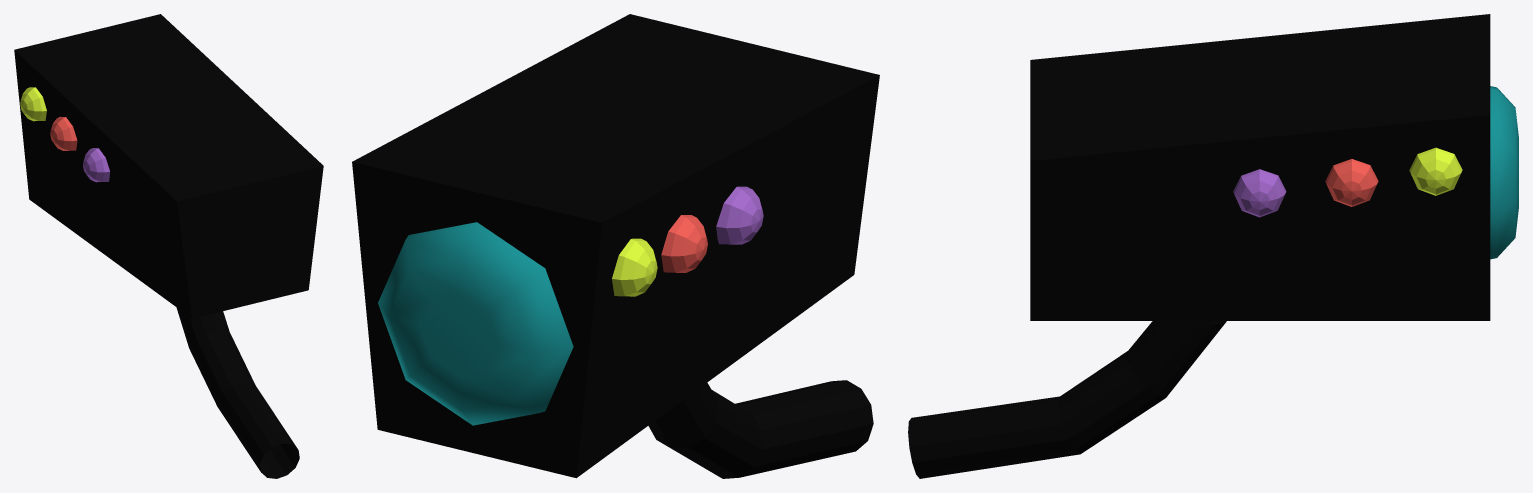
The model's file is security_camera.fbx.
3 renders of one model, left to right at view 1: azimuth 30°, elevation 25°; view 2: azimuth 150°, elevation 25°; view 3: azimuth 270°, elevation 25°, orthographic. The views are drawn at different scales.
Visible parts, largest first — view 1: Sphere.001; view 2: Sphere.001; view 3: Sphere.001.
Boxes of the visible parts, x1=… form: Sphere.001: x1=14, y1=14, x2=323, y2=478; Sphere.001: x1=352, y1=14, x2=879, y2=478; Sphere.001: x1=908, y1=14, x2=1518, y2=478.
Size of the model in its own units: 69.47 by 117 by 155.
